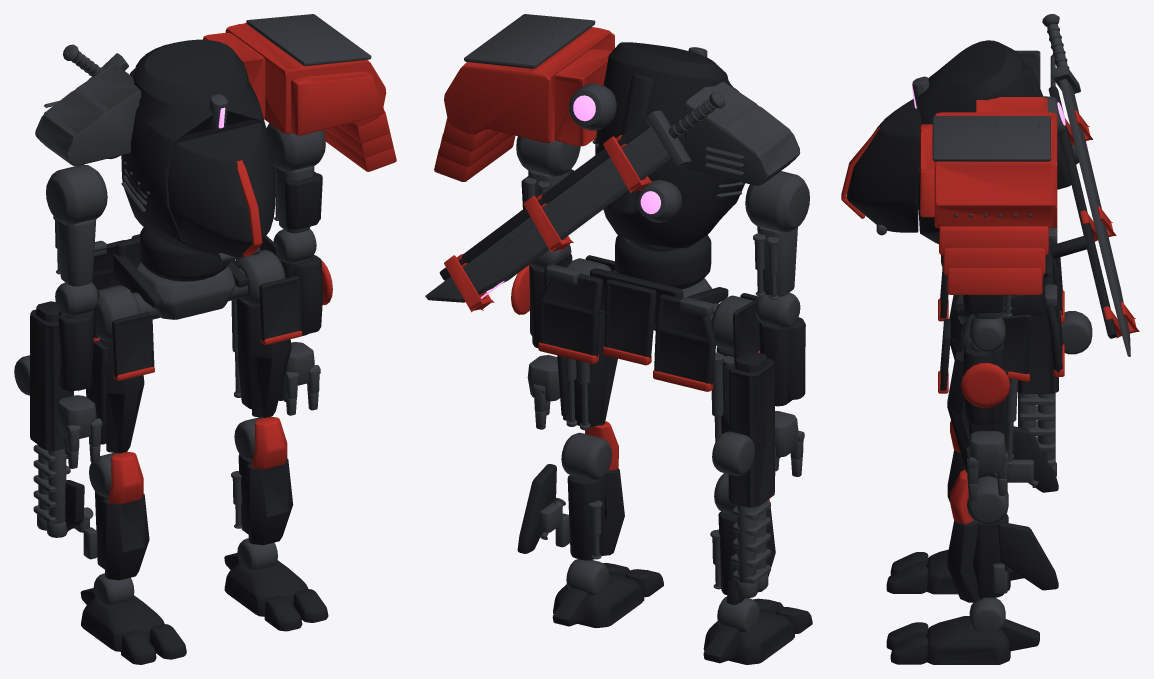
Rendered from Titan_L2.fbx.
3 views of the same model, side by side, from view 1: azimuth 30°, elevation 25°; view 2: azimuth 150°, elevation 25°; view 3: azimuth 270°, elevation 25° (orthographic). The views are drawn at different scales.
Visible parts, largest first — view 1: L2_Torso_Upper, L2_Hatch, L2_Pauldron_L, L2_Shoulder_Cap_R, L2_Shotgun_Body, L2_Pauldron_Trim_L, L2_Pelvis, L2_Shin_Plate_R, L2_Shin_Plate_L, L2_UpperArm_Hub_R, L2_Thigh_Plate_L, L2_Foot_R (+38 smaller); view 2: L2_Torso_Upper, L2_Skirt_Back, L2_Pauldron_L, L2_Sword_Blade, L2_Shoulder_Cap_R, L2_Shotgun_Body, L2_Pauldron_Trim_L, L2_Waist, L2_Rack_Clamps, L2_UpperArm_Hub_R, L2_Pauldron_Lames_L, L2_Phase_Gen (+42 smaller); view 3: L2_Pauldron_L, L2_Pauldron_Lames_L, L2_Hatch, L2_Torso_Upper, L2_Pauldron_Trim_L, L2_Foot_L, L2_Sword_Blade, L2_Rack, L2_Calf_Blade_L, L2_Shotgun_Body, L2_Shin_Plate_L, L2_Forearm_Guard_L (+32 smaller).
Boxes of the visible parts, <box> form: L2_Torso_Upper: <box>121,39,271,253</box>; L2_Hatch: <box>168,123,275,257</box>; L2_Pauldron_L: <box>203,23,386,135</box>; L2_Shoulder_Cap_R: <box>35,65,141,165</box>; L2_Shotgun_Body: <box>30,301,73,451</box>; L2_Pauldron_Trim_L: <box>246,14,371,65</box>; L2_Pelvis: <box>132,262,247,319</box>; L2_Shin_Plate_R: <box>103,494,149,580</box>; L2_Shin_Plate_L: <box>247,458,293,545</box>; L2_UpperArm_Hub_R: <box>46,164,107,225</box>; L2_Thigh_Plate_L: <box>249,303,291,417</box>; L2_Foot_R: <box>81,595,164,651</box>; L2_Torso_Upper: <box>595,42,745,248</box>; L2_Skirt_Back: <box>539,274,716,384</box>; L2_Pauldron_L: <box>444,27,614,146</box>; L2_Sword_Blade: <box>425,126,670,302</box>; L2_Shoulder_Cap_R: <box>685,81,800,185</box>; L2_Shotgun_Body: <box>728,351,774,507</box>; L2_Pauldron_Trim_L: <box>464,14,595,68</box>; L2_Waist: <box>615,235,711,289</box>; L2_Rack_Clamps: <box>444,135,651,312</box>; L2_UpperArm_Hub_R: <box>745,171,809,232</box>; L2_Pauldron_Lames_L: <box>434,118,515,181</box>; L2_Phase_Gen: <box>569,83,681,222</box>; L2_Pauldron_L: <box>920,97,1057,228</box>; L2_Pauldron_Lames_L: <box>939,226,1048,294</box>; L2_Hatch: <box>847,99,921,232</box>; L2_Torso_Upper: <box>918,40,1036,244</box>; L2_Pauldron_Trim_L: <box>932,116,1050,161</box>; L2_Foot_L: <box>926,616,1010,664</box>; L2_Sword_Blade: <box>1059,78,1130,356</box>; L2_Rack: <box>1048,86,1116,338</box>; L2_Calf_Blade_L: <box>998,521,1058,590</box>; L2_Shotgun_Body: <box>1017,274,1058,393</box>; L2_Shin_Plate_L: <box>947,520,983,602</box>; L2_Forearm_Guard_L: <box>961,363,1009,407</box>.
Bounding box in the file's own units: 3.54 × 5.87 × 2.83.
